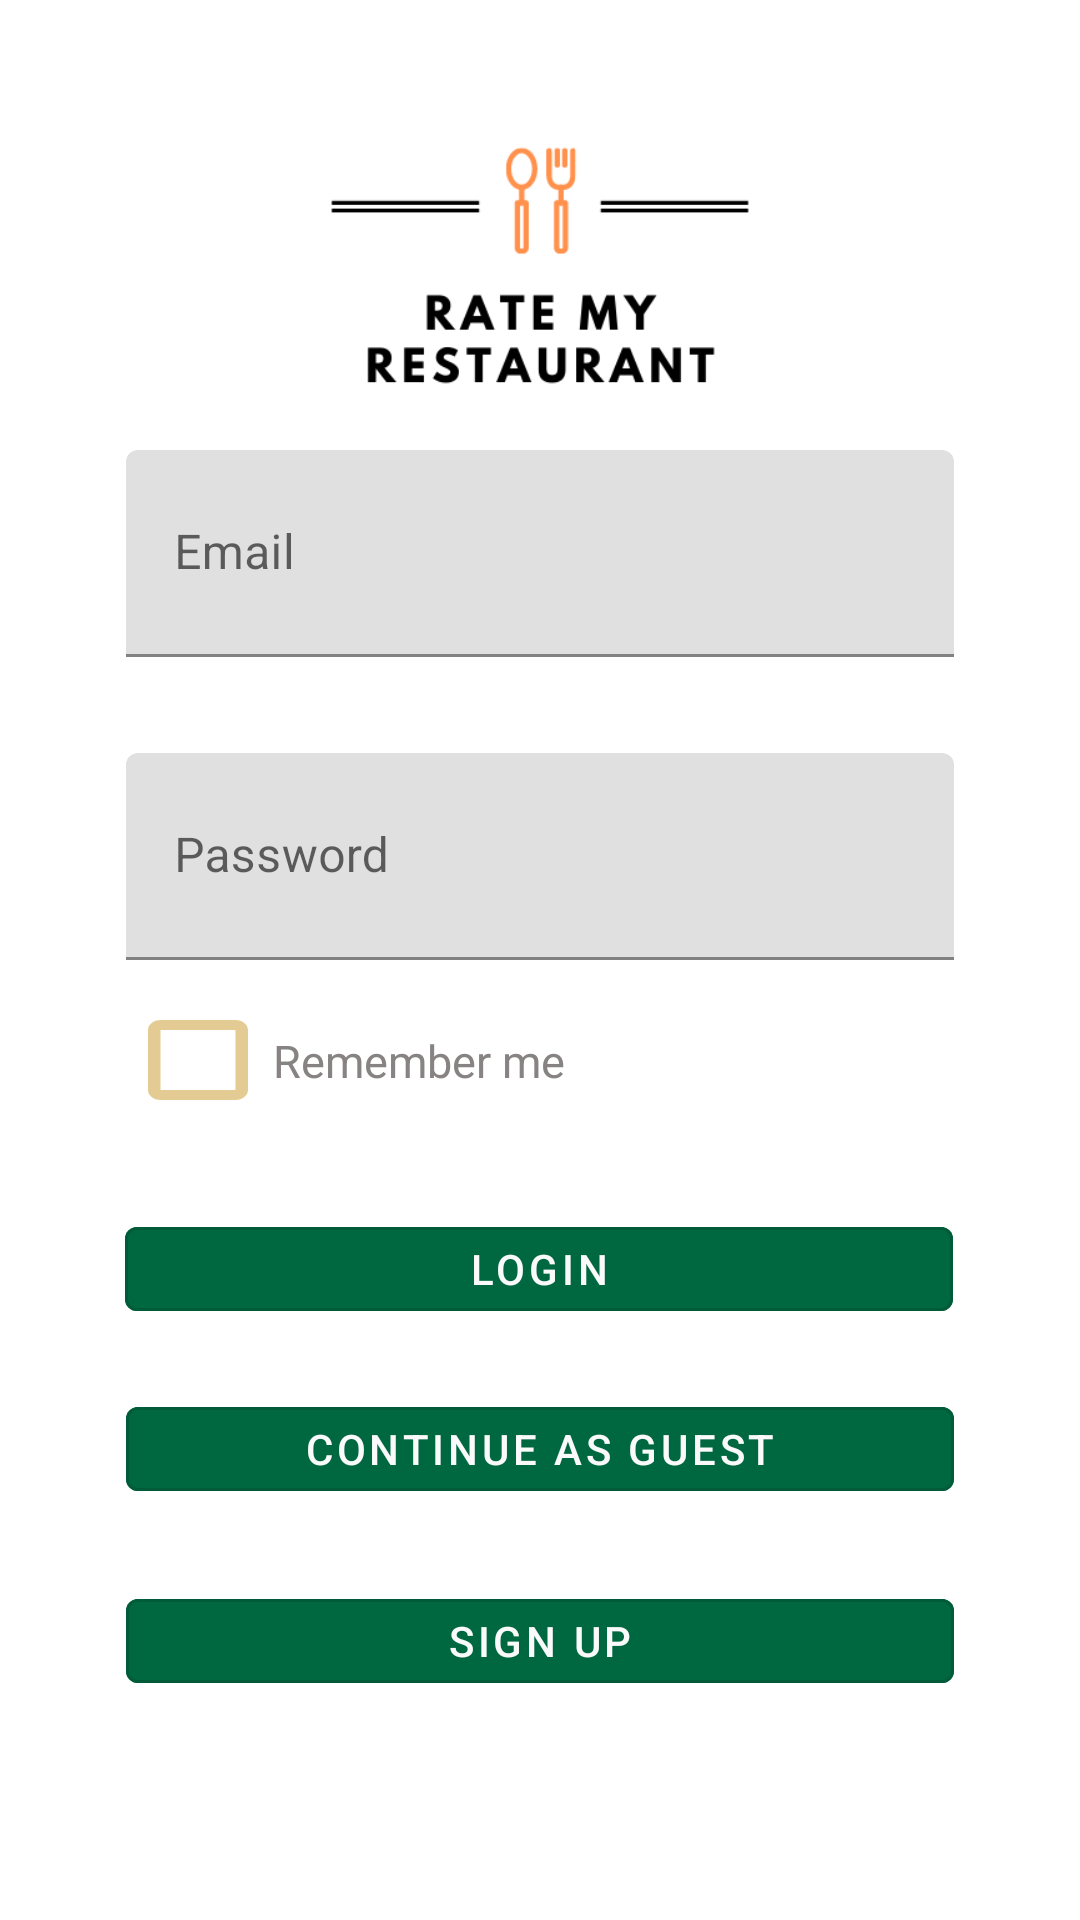

Screen size 1080 × 1920. Icon name, then its center in pixels as (x=x, y=y):
crop square: (x=198, y=1060)
